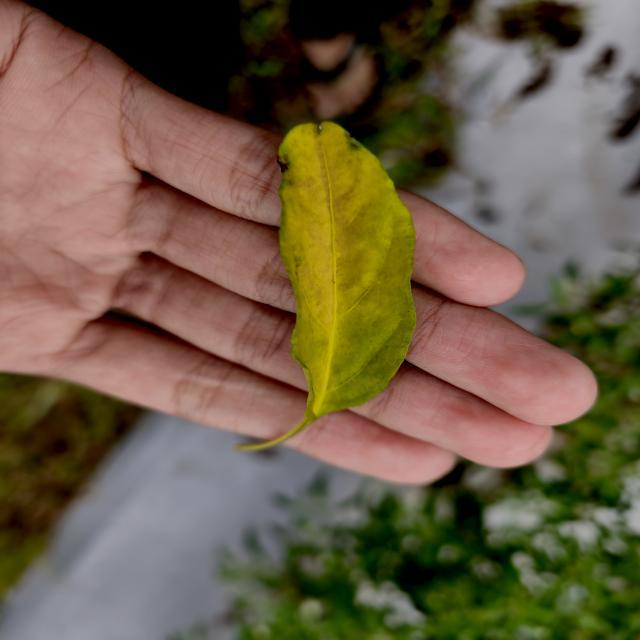Virus Kuning: (276, 120, 418, 423)
